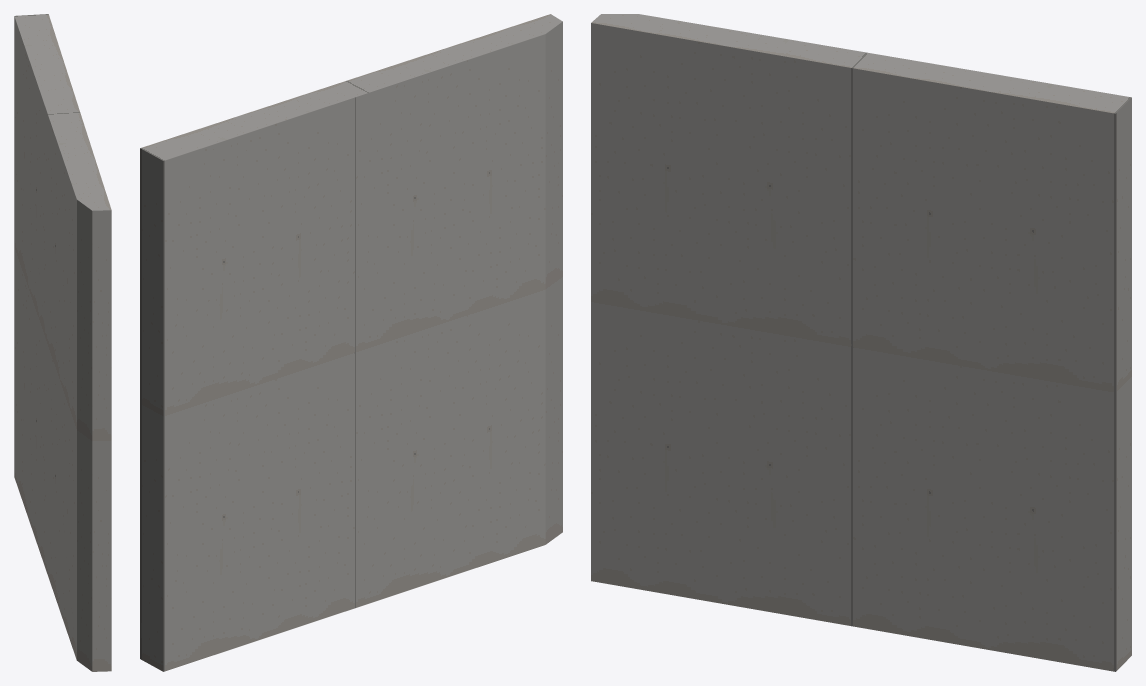
Rendered from kd_stage_135fe0_5_75.glb.
The picture shows the model from 3 angles, left to right: view 1: azimuth 30°, elevation 25°; view 2: azimuth 150°, elevation 25°; view 3: azimuth 270°, elevation 25°; orthographic projection. The views are drawn at different scales.
Parts seen in each view (by area): view 1: kd_stage_135fe0_5_75; view 2: kd_stage_135fe0_5_75; view 3: kd_stage_135fe0_5_75.
Part boxes in pixels (box(x1,y1,x2,y2)): kd_stage_135fe0_5_75: box(14, 14, 111, 671); kd_stage_135fe0_5_75: box(140, 14, 562, 671); kd_stage_135fe0_5_75: box(591, 14, 1131, 671).
Bounding box in the file's own units: 0.916 × 2.39 × 2.1.
Materials: 1 (1 with a texture image).
